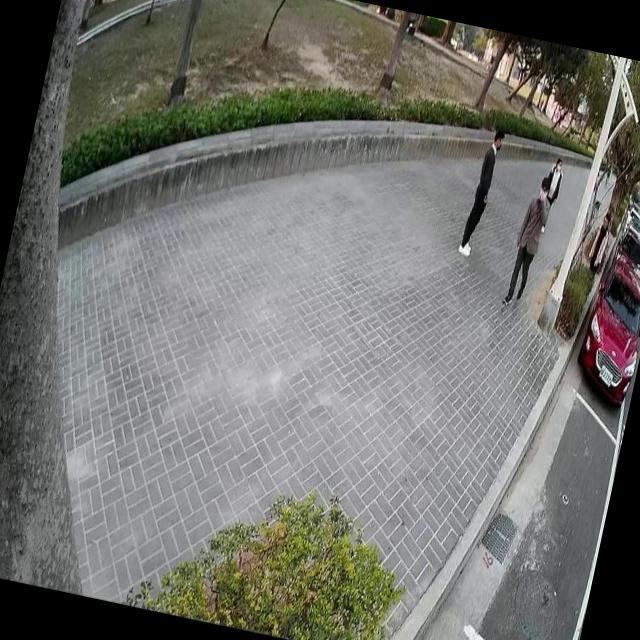person: (496, 165, 558, 313), (452, 118, 508, 262), (534, 152, 568, 235), (582, 207, 615, 277)
